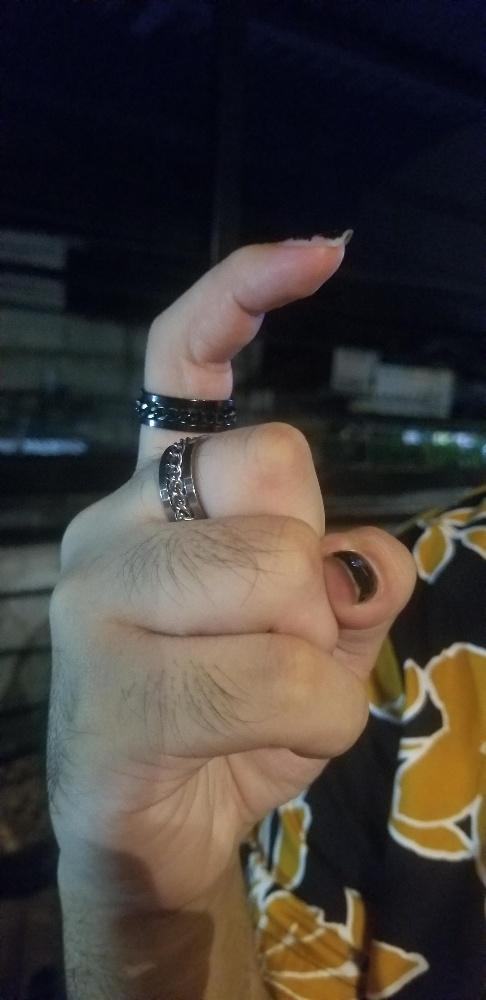x: (39, 234, 354, 905)
